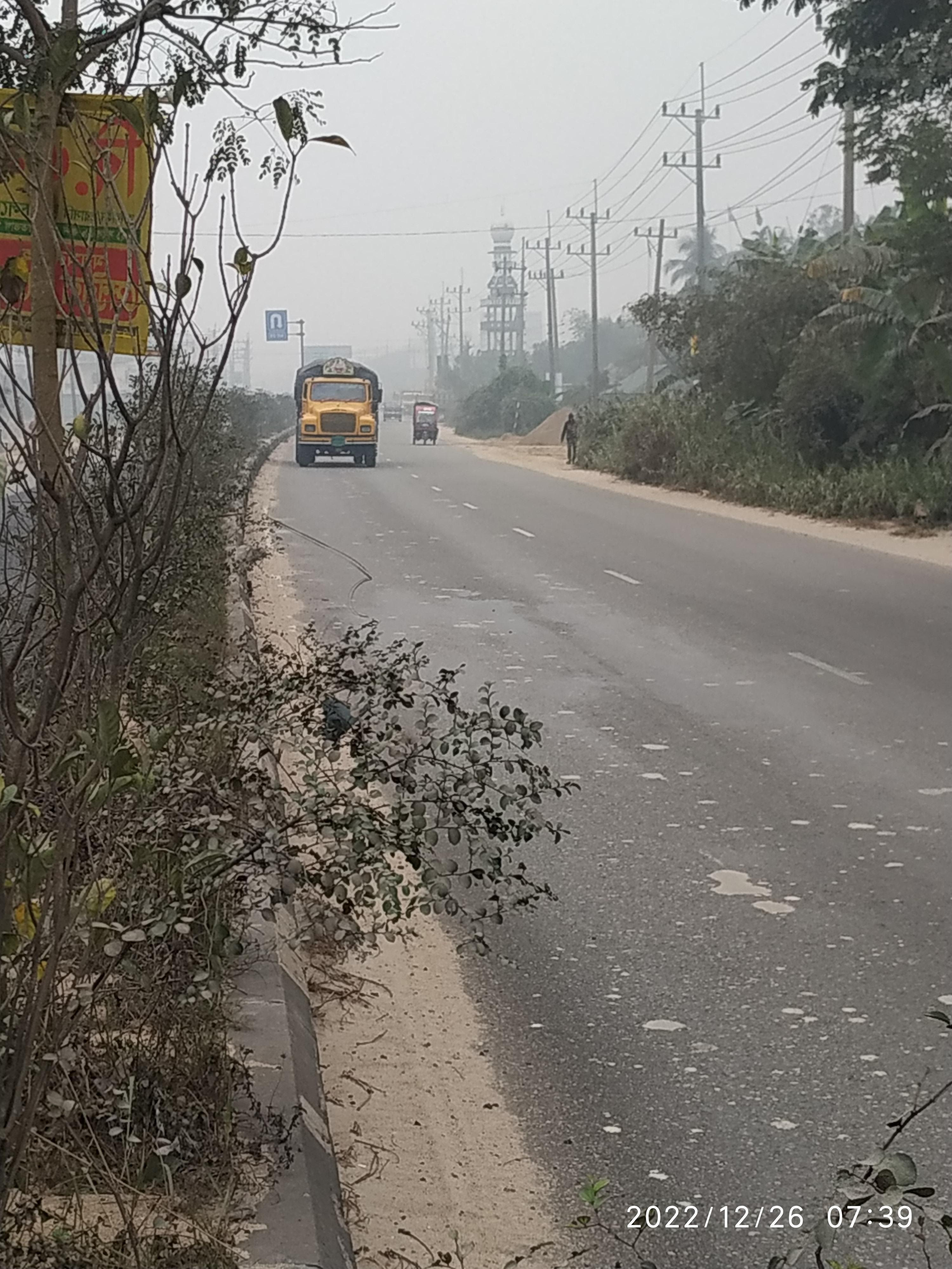Car: (406, 391, 451, 456)
Truck: (280, 347, 398, 482)
